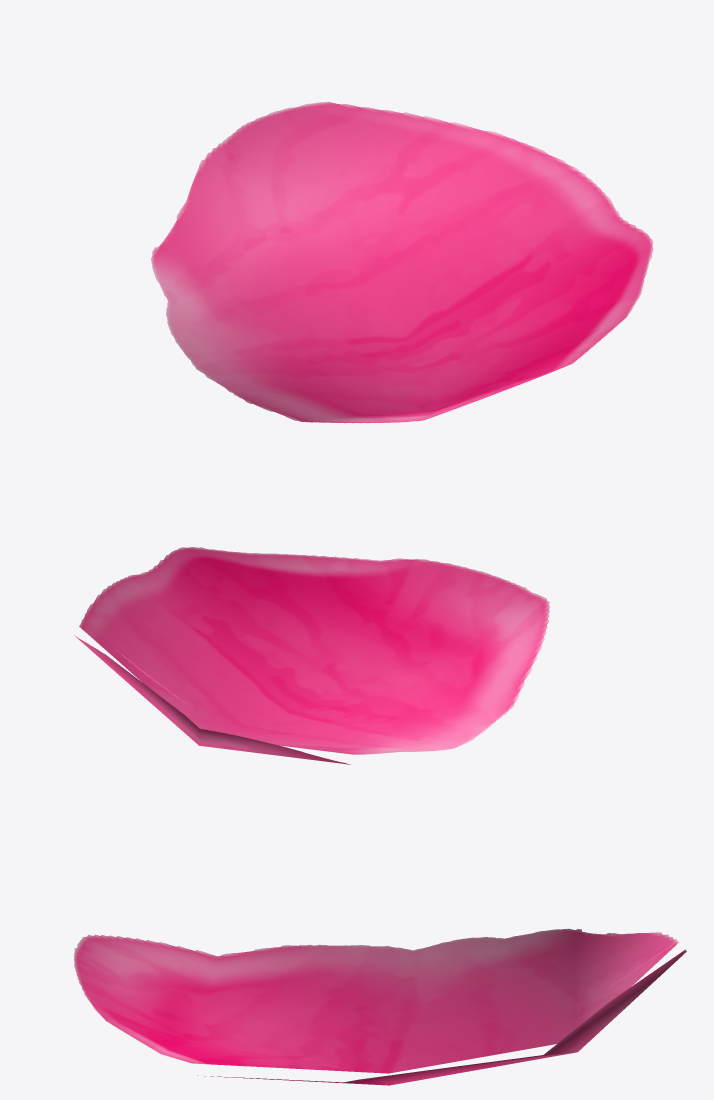
File: petal.glb
The picture shows the model from 3 angles, top to bottom: view 1: azimuth 30°, elevation 25°; view 2: azimuth 150°, elevation 25°; view 3: azimuth 270°, elevation 25°; orthographic projection. The views are drawn at different scales.
Parts seen in each view (by area): view 1: Petals.035; view 2: Petals.035; view 3: Petals.035.
Boxes of the visible parts, x1,y1,x2,y2 form: Petals.035: (151, 101, 653, 423); Petals.035: (74, 547, 550, 764); Petals.035: (73, 928, 686, 1085).
Bounding box in the file's own units: 0.5522 × 0.1853 × 0.5528.
1 material, 1 textured.
